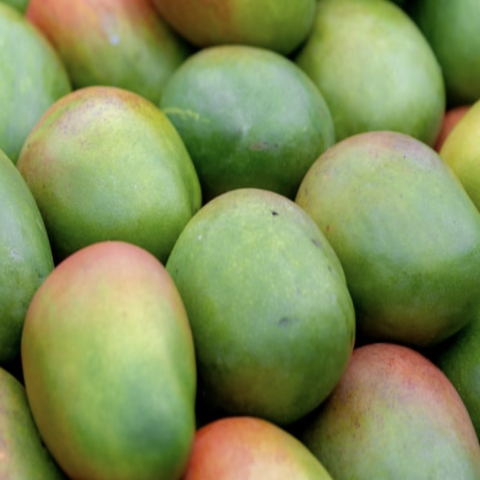mango: (147, 182, 369, 419), (5, 237, 217, 474), (293, 111, 480, 366), (149, 19, 345, 197)
